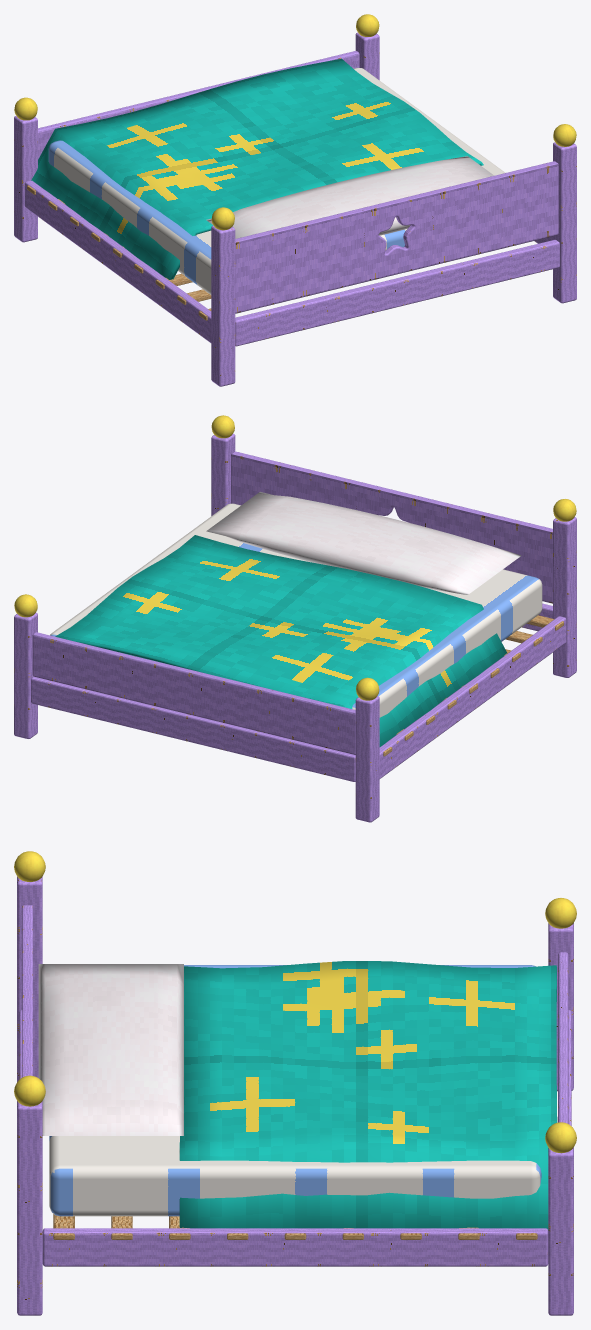
Rendered from p_kidbed.glb.
3 renders of one model, top to bottom at view 1: azimuth 30°, elevation 25°; view 2: azimuth 150°, elevation 25°; view 3: azimuth 270°, elevation 25°, orthographic. The views are drawn at different scales.
Parts seen in each view (by area): view 1: p_kidbed_lod0; view 2: p_kidbed_lod0; view 3: p_kidbed_lod0.
Part boxes in pixels (left/top/right/bottom): p_kidbed_lod0: left=14, top=14, right=576, bottom=386; p_kidbed_lod0: left=14, top=415, right=576, bottom=822; p_kidbed_lod0: left=14, top=851, right=576, bottom=1315.
Size of what is drawn, in the model's own units: 263 by 121 by 263.
1 material, 1 textured.
